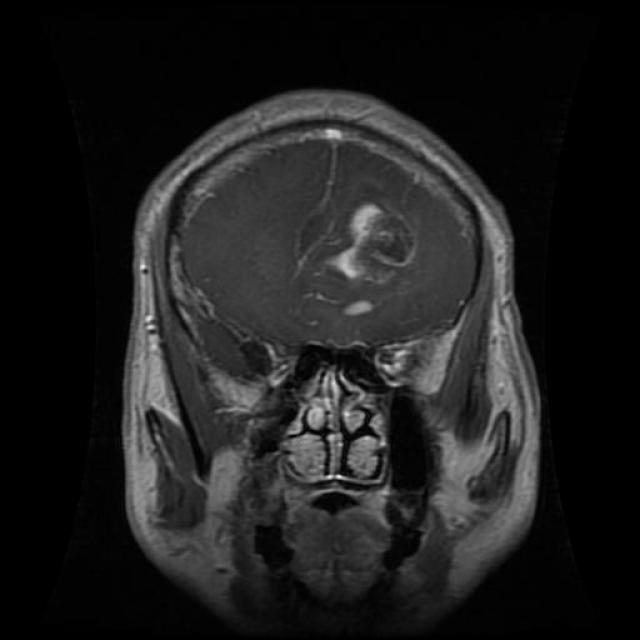Brain-Tumor: (290, 161, 440, 324)
